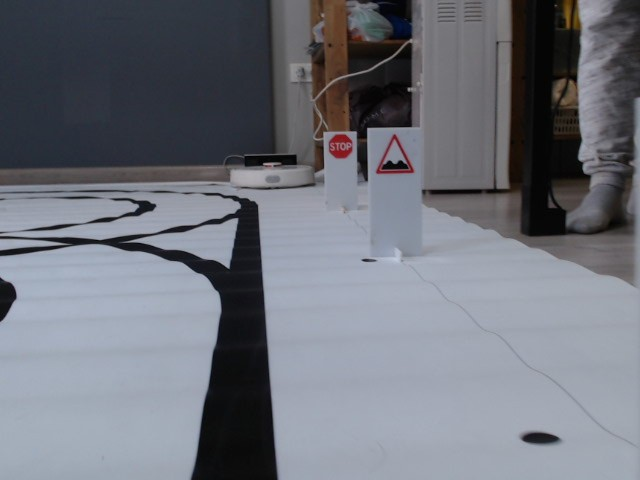Nerov: (374, 133, 416, 179)
Stop: (328, 133, 353, 160)
